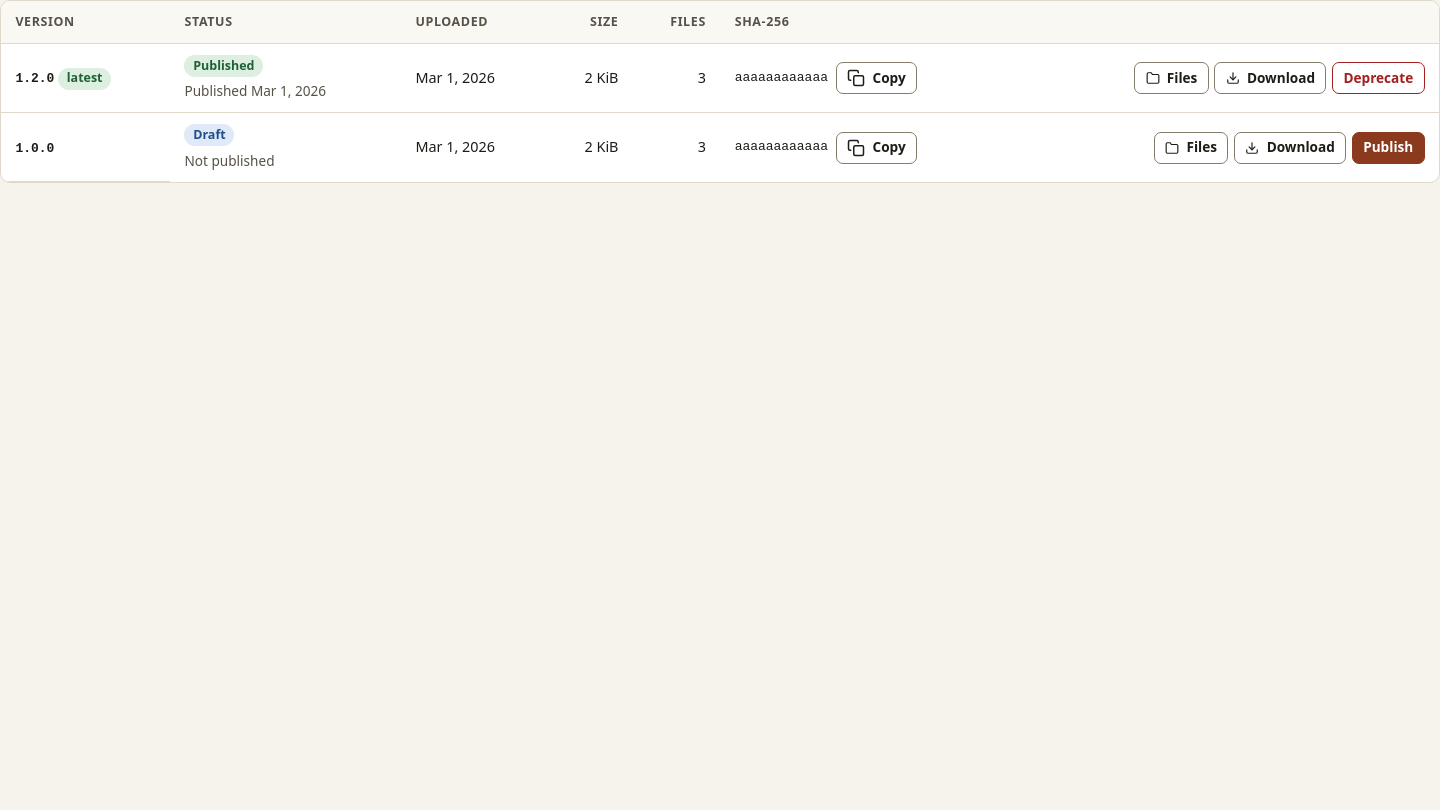
Test: VersionsTab: deprecating › warns in advance when it is the only published version
The width and height of the screenshot is (1440, 810).
Click the button named "Deprecate version 1.2.0": {"x": 1378, "y": 78} [1332,62,1425,94]
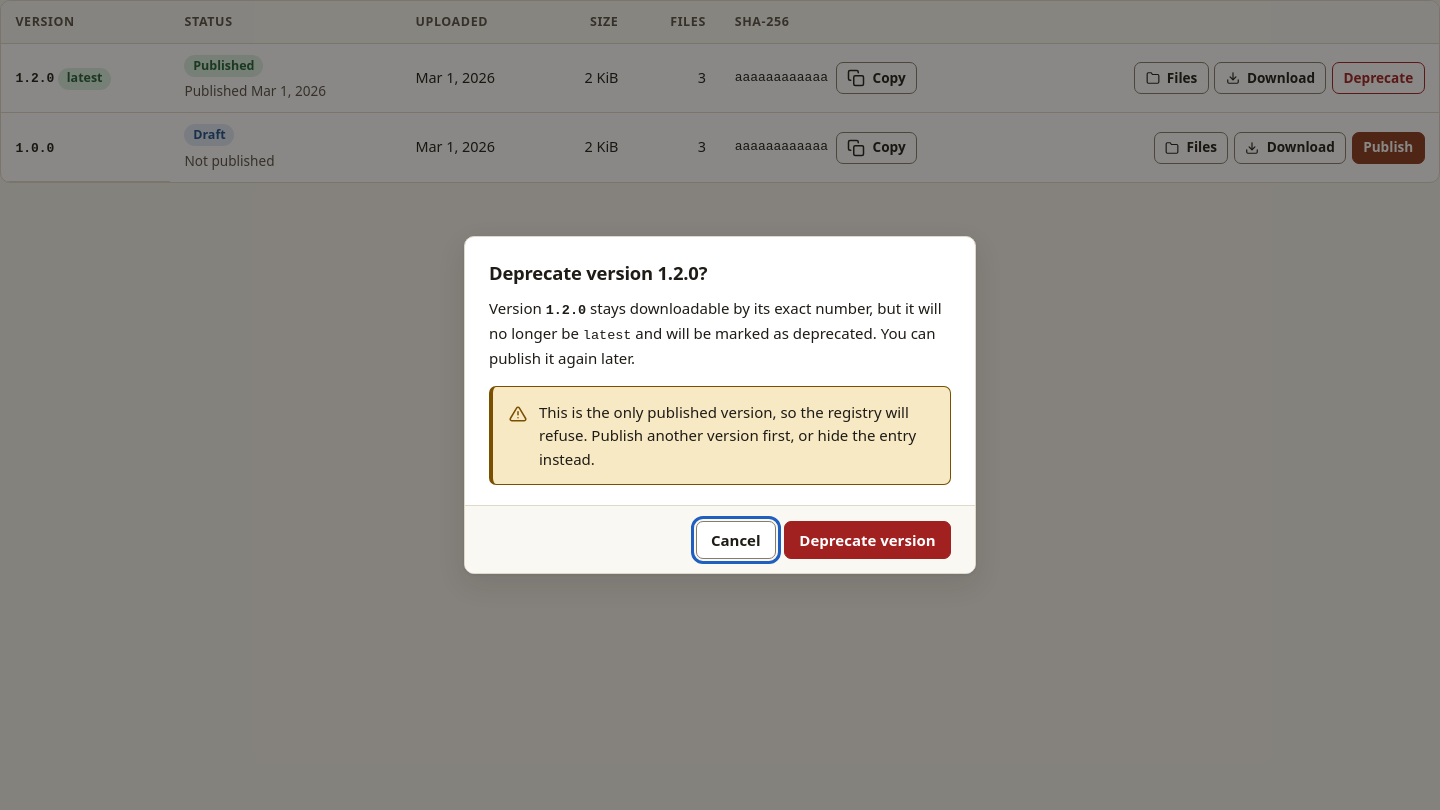
Expected: the dialog shows "only published version, so the registry will refuse", [539,402,916,469]
